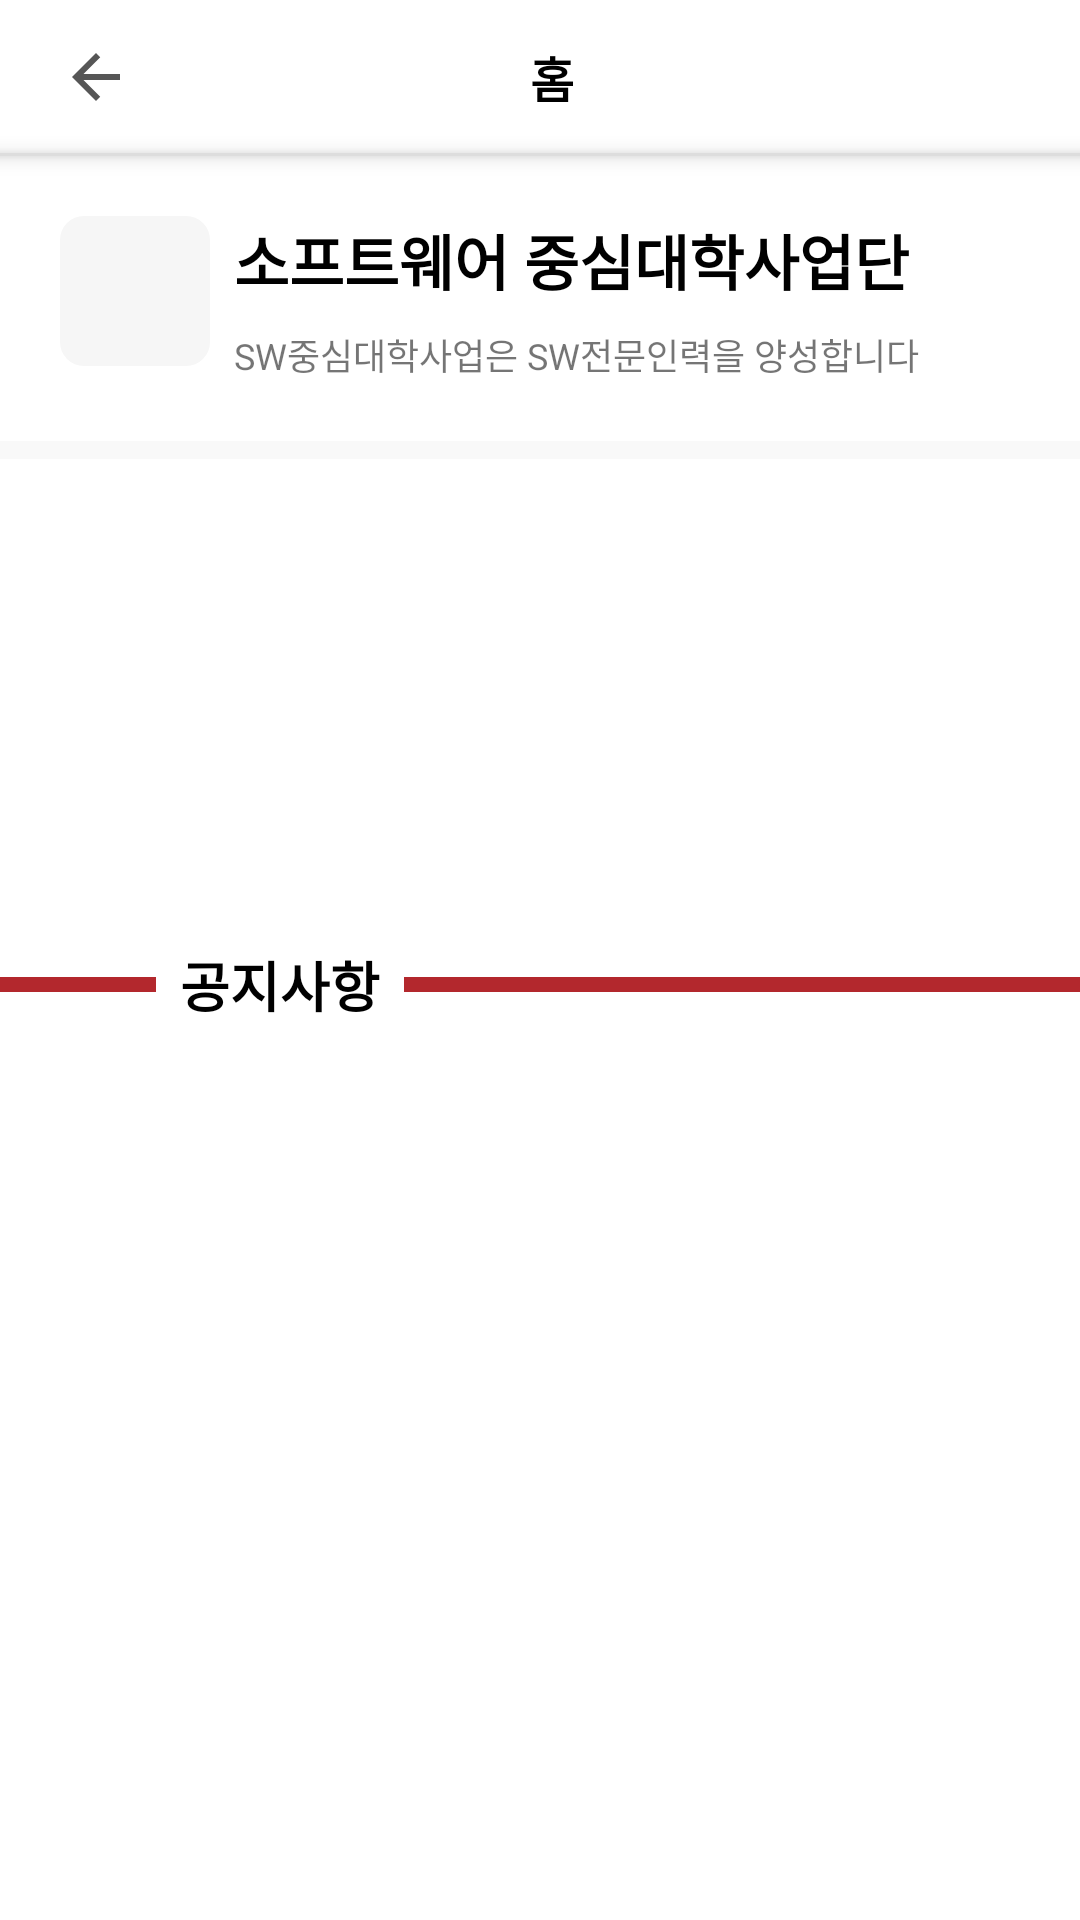

Screen size 1080*1920. Icon name, then its center in pixels as (x=x, y=y):
arrow back: (x=96, y=77)
